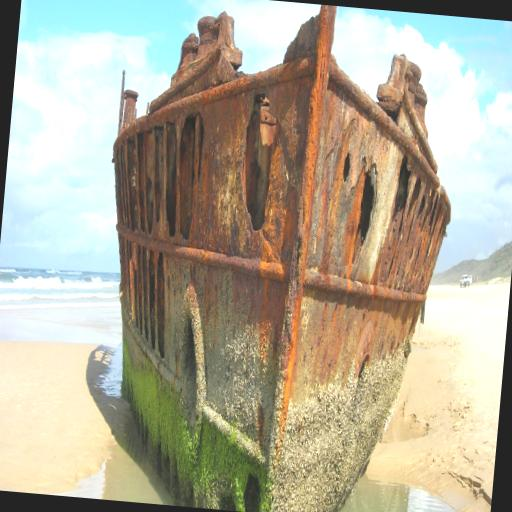segmentation: (113, 5, 451, 512)
